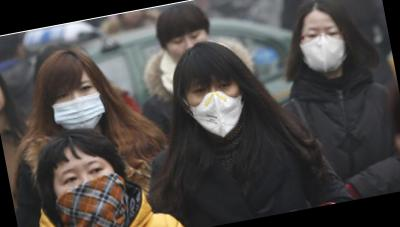with_mask: (47, 153, 130, 227), (183, 70, 250, 142), (46, 74, 112, 139), (297, 20, 352, 78)
without_mask: (167, 30, 211, 64)
